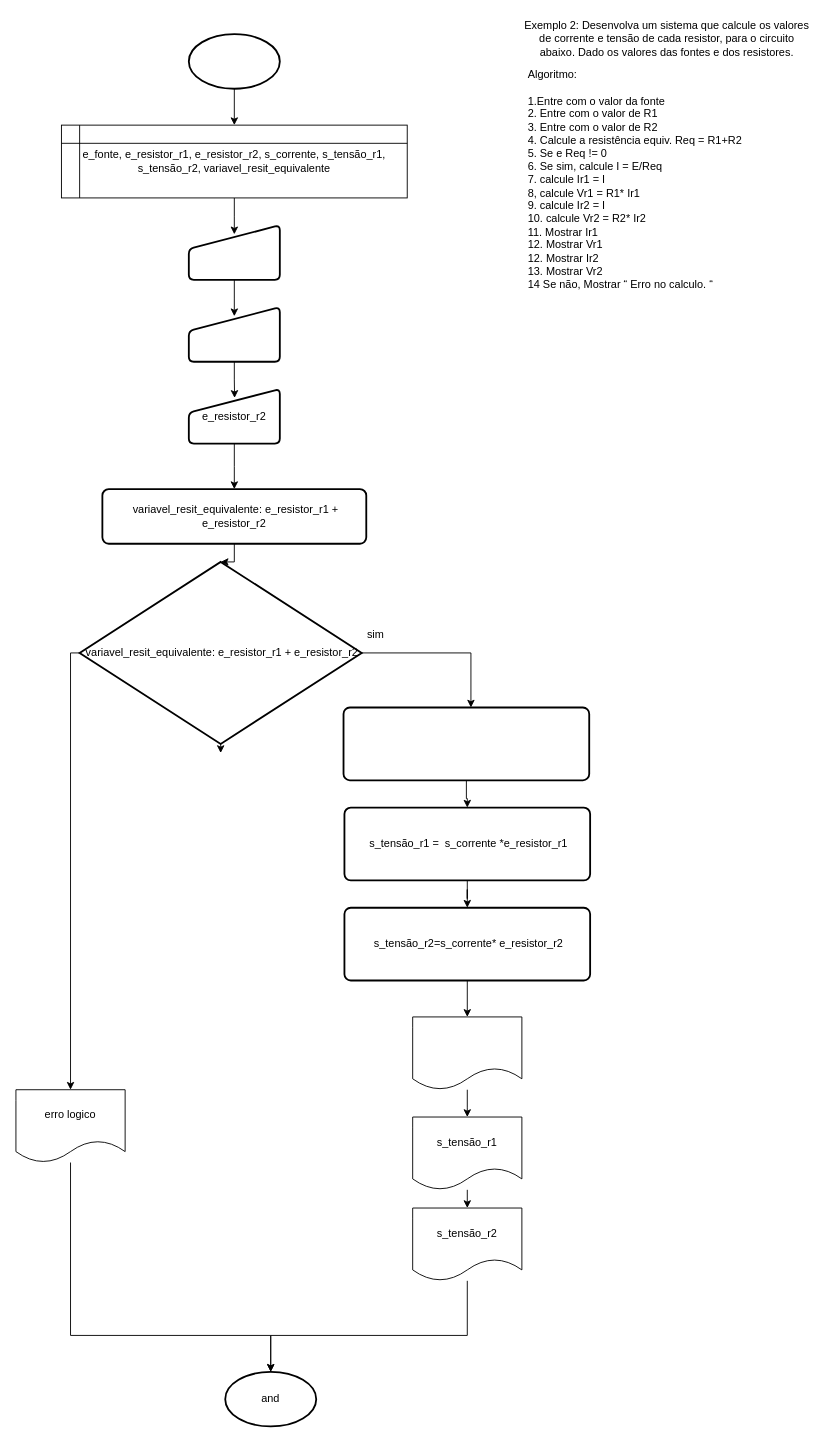
This 833x1442 diagram has some shape labels left out. The shapes that lost their labels are listed below. From the top down, each one's centre as x and y in pixels, then its label:
point 233,61: start
point 233,252: e_fonte
point 233,334: e_resistor_r1
point 466,743: s_corrente=e_fonte/ variavel_resit_equivalente
point 467,1053: s_corrente
